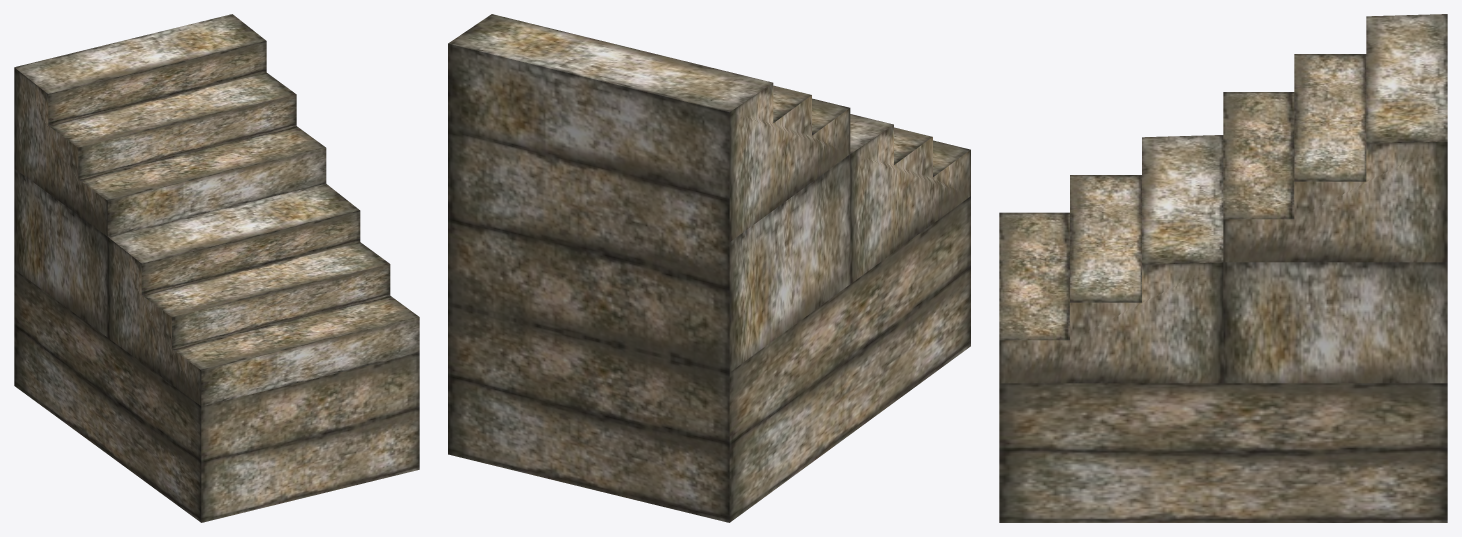
Rendered from stone_stairs_single.fbx.
The picture shows the model from 3 angles, left to right: view 1: azimuth 30°, elevation 25°; view 2: azimuth 150°, elevation 25°; view 3: azimuth 270°, elevation 25°; orthographic projection. The views are drawn at different scales.
Visible parts, largest first — view 1: brick_stairs1, nurbsToPoly3; view 2: nurbsToPoly3, polySurface5, brick_stairs1; view 3: brick_stairs1, nurbsToPoly3.
Part boxes in pixels (x1=…): brick_stairs1: x1=14, y1=14, x2=419, y2=406; nurbsToPoly3: x1=14, y1=269, x2=419, y2=522; nurbsToPoly3: x1=448, y1=196, x2=970, y2=522; polySurface5: x1=448, y1=43, x2=729, y2=372; brick_stairs1: x1=448, y1=14, x2=970, y2=371; brick_stairs1: x1=999, y1=14, x2=1447, y2=383; nurbsToPoly3: x1=999, y1=383, x2=1447, y2=522.
Bounding box in the file's own units: 750 × 1046 × 1114.
Materials: 1 (1 with a texture image).
